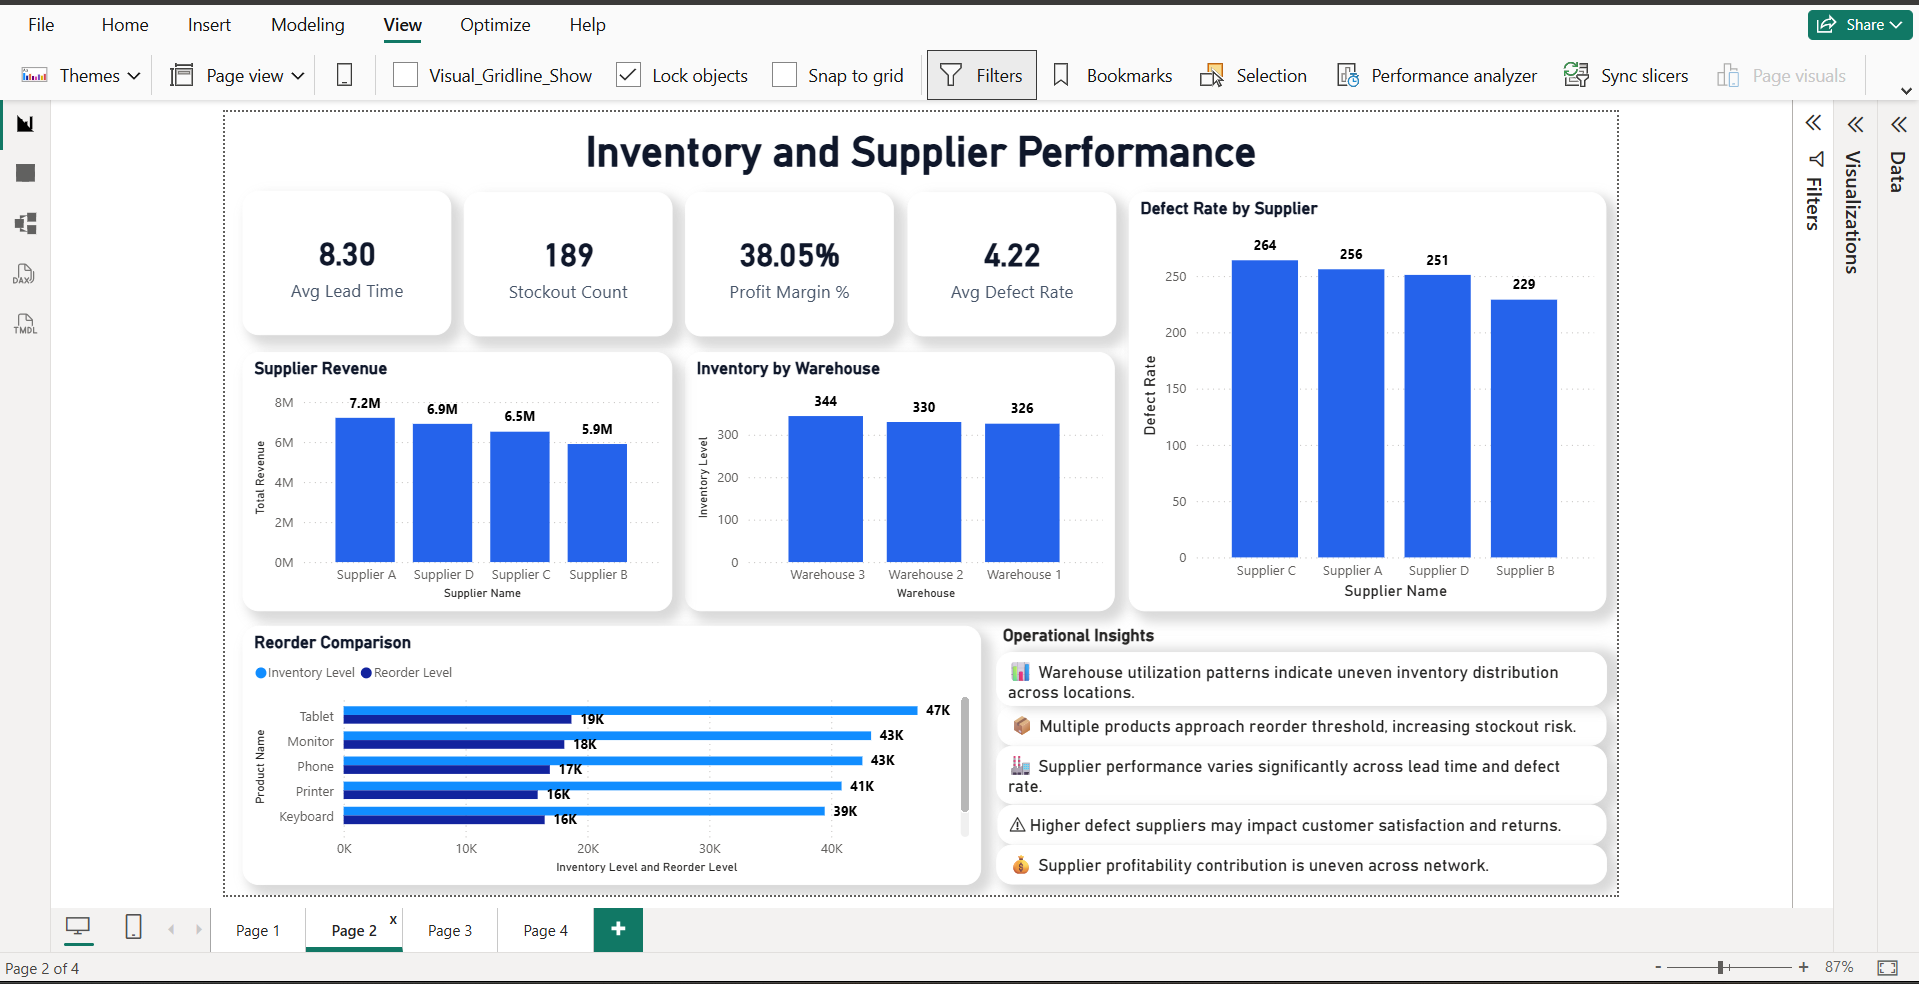

This screenshot's page, from the dashboard's own definition file:
{"tool":"powerbi","page":{"name":"Page 2","canvas":[1280,720],"ordinal":1},"visuals":[{"type":"textbox","title":"Inventory and Supplier Performance","box":[0,13.7,1280.3,45.3],"z":0},{"type":"card","fields":{"Values":["supply_chain_project supply_chain.Avg Lead Time"]},"box":[16.5,72.7,192.1,133.1],"z":1},{"type":"card","fields":{"Values":["supply_chain_project supply_chain.Stockout Count"]},"box":[219.6,74.1,192.1,133.1],"z":2},{"type":"card","fields":{"Values":["supply_chain_project supply_chain.Profit Margin %"]},"box":[422.6,74.1,192.1,133.1],"z":3},{"type":"card","fields":{"Values":["supply_chain_project supply_chain.Avg Defect Rate"]},"box":[627.1,74.1,192.1,133.1],"z":4},{"type":"clusteredColumnChart","title":"Inventory by Warehouse","fields":{"Category":["supply_chain_project supply_chain.Warehouse"],"Y":["CountNonNull(supply_chain_project supply_chain.Inventory_Level)"]},"box":[422.6,220.9,395.2,238.8],"z":5},{"type":"clusteredColumnChart","title":"Supplier Revenue","fields":{"Category":["supply_chain_project supply_chain.Supplier_Name"],"Y":["supply_chain_project supply_chain.Total Revenue"]},"box":[16.5,220.9,395.2,238.8],"z":6},{"type":"columnChart","title":"Defect Rate by Supplier","fields":{"Category":["supply_chain_project supply_chain.Supplier_Name"],"Y":["CountNonNull(supply_chain_project supply_chain.Defect_Rate)"]},"box":[831.6,74.1,439.1,385.6],"z":7},{"type":"clusteredBarChart","title":"Reorder Comparison","fields":{"Category":["supply_chain_project supply_chain.Product_Name"],"Y":["Sum(supply_chain_project supply_chain.Inventory_Level)","Sum(supply_chain_project supply_chain.Reorder_Level)"]},"box":[16.5,472,679.2,238.8],"z":8},{"type":"textbox","title":"Operational Insights","box":[710.8,472,559.9,238.8],"z":9},{"type":"textbox","title":"📦 Multiple products approach reorder threshold, increasing stockout risk.","box":[710.8,546.1,559.9,37],"z":10},{"type":"textbox","title":"🏭 Supplier performance varies significantly across lead time and defect rate.","box":[709.4,583.2,561.2,53.5],"z":11},{"type":"textbox","title":"⚠ Higher defect suppliers may impact customer satisfaction and returns.","box":[710.8,636.7,559.9,37],"z":12},{"type":"textbox","title":"💰 Supplier profitability contribution is uneven across network.","box":[709.4,673.8,561.2,37],"z":13},{"type":"textbox","title":"📊 Warehouse utilization patterns indicate uneven inventory distribution across locations.","box":[709.4,496.7,561.2,49.4],"z":14}]}

Visuals, with their boxes on the page's 1280x720 design canvas (x1, y1, x2, y2). These are canvas units, not pixel positions in the 1919x984 screenshot, which may show the page scaled, cropped or inside an application window:
"Inventory and Supplier Performance" textbox: bbox=(0, 14, 1280, 59)
card - supply_chain_project supply_chain.Avg Lead Time: bbox=(16, 73, 209, 206)
card - supply_chain_project supply_chain.Stockout Count: bbox=(220, 74, 412, 207)
card - supply_chain_project supply_chain.Profit Margin %: bbox=(423, 74, 615, 207)
card - supply_chain_project supply_chain.Avg Defect Rate: bbox=(627, 74, 819, 207)
"Inventory by Warehouse" clusteredColumnChart: bbox=(423, 221, 818, 460)
"Supplier Revenue" clusteredColumnChart: bbox=(16, 221, 412, 460)
"Defect Rate by Supplier" columnChart: bbox=(832, 74, 1271, 460)
"Reorder Comparison" clusteredBarChart: bbox=(16, 472, 696, 711)
"Operational Insights" textbox: bbox=(711, 472, 1271, 711)
"📦 Multiple products approach reorder threshold, increasing stockout risk." textbox: bbox=(711, 546, 1271, 583)
"🏭 Supplier performance varies significantly across lead time and defect rate." textbox: bbox=(709, 583, 1271, 637)
"⚠ Higher defect suppliers may impact customer satisfaction and returns." textbox: bbox=(711, 637, 1271, 674)
"💰 Supplier profitability contribution is uneven across network." textbox: bbox=(709, 674, 1271, 711)
"📊 Warehouse utilization patterns indicate uneven inventory distribution across locations." textbox: bbox=(709, 497, 1271, 546)
